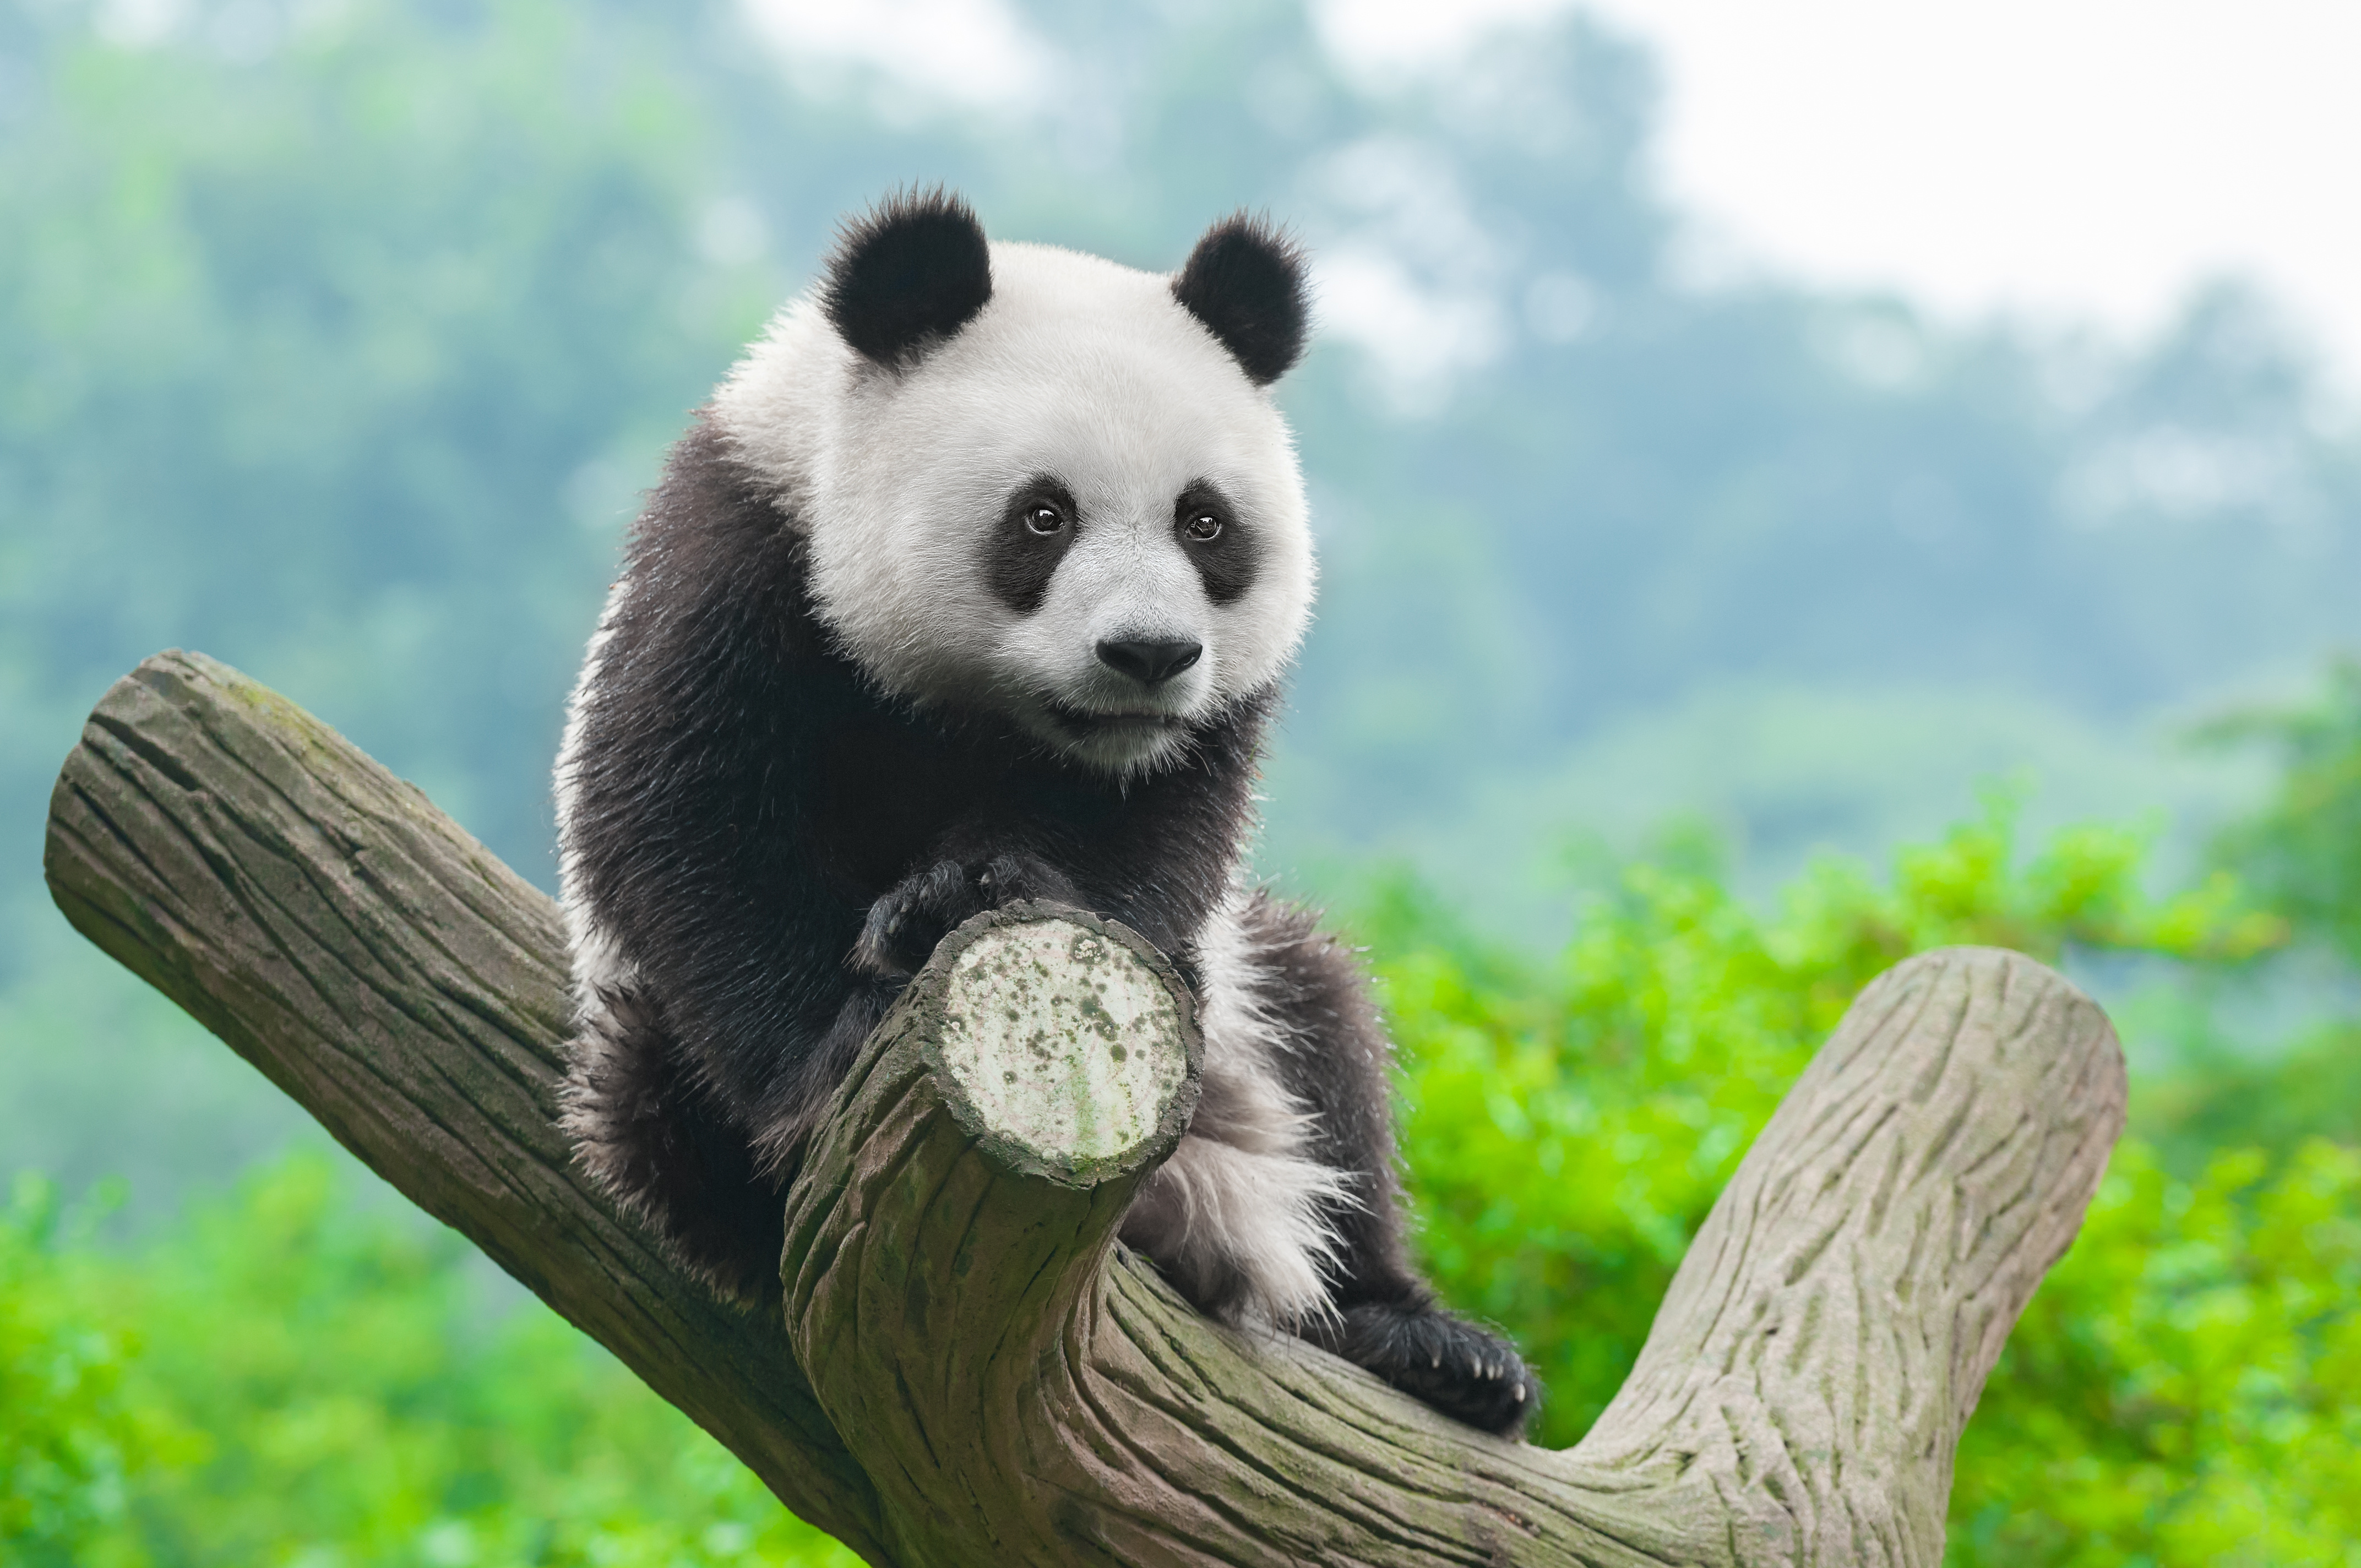panda: (541, 145, 1530, 1403)
